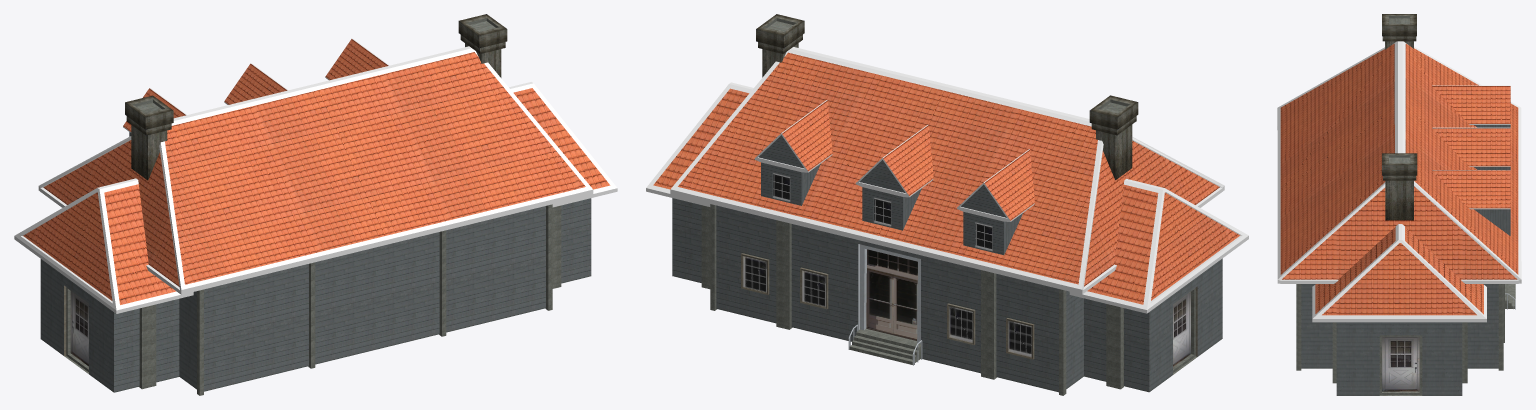
The model's file is House1.fbx.
The picture shows the model from 3 angles, left to right: view 1: azimuth 30°, elevation 25°; view 2: azimuth 150°, elevation 25°; view 3: azimuth 270°, elevation 25°; orthographic projection. The views are drawn at different scales.
Visible parts, largest first — view 1: House1; view 2: House1; view 3: House1.
Part boxes in pixels (bbox=[...]): House1: bbox=[14, 14, 617, 395]; House1: bbox=[646, 14, 1248, 395]; House1: bbox=[1277, 14, 1521, 395].
Bounding box in the file's own units: 1986 × 919 × 979.
Materials: 10 (9 with a texture image).
